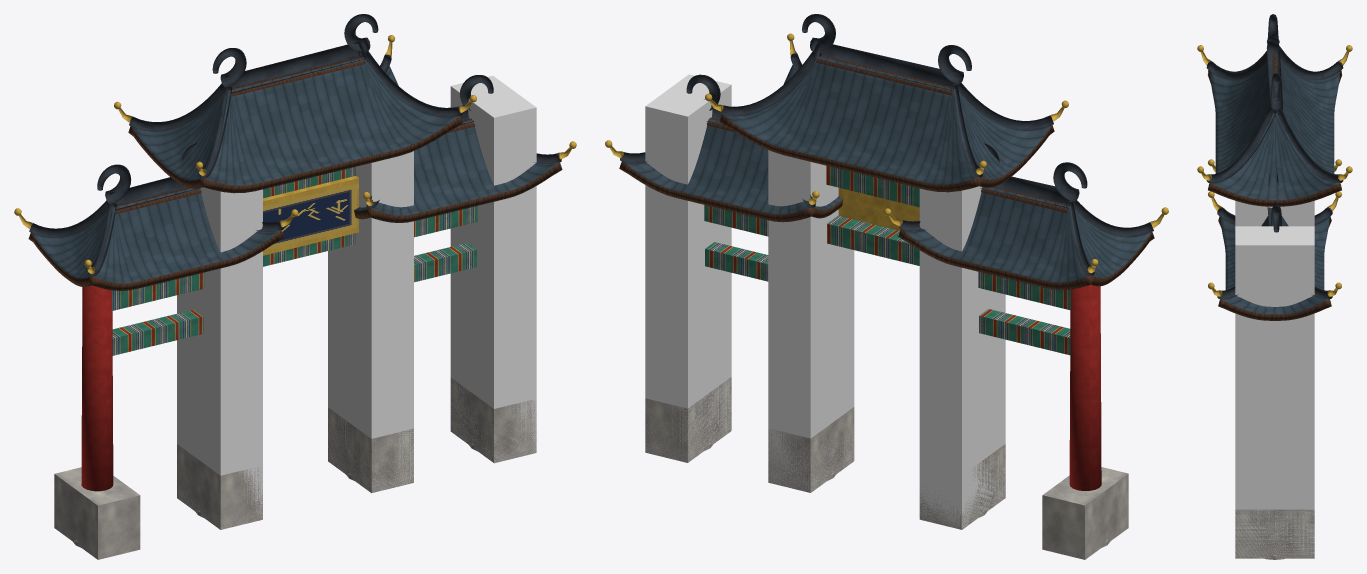
The model's file is sect_gate.glb.
3 renders of one model, left to right at view 1: azimuth 30°, elevation 25°; view 2: azimuth 150°, elevation 25°; view 3: azimuth 270°, elevation 25°, orthographic. The views are drawn at different scales.
Parts seen in each view (by area): view 1: GateRoofMain, GatePillar-convcolonly.003, GatePillar-convcolonly.002, GateBases, GatePillar-convcolonly.001, GateRoofSideR, GateBeams, GateRoofSideL, GateRoofMainRidges, GatePillars, Plaque, GateRoofSideRRidges (+2 smaller); view 2: GateRoofMain, GatePillar-convcolonly.003, GatePillar-convcolonly.001, GatePillar-convcolonly.002, GateBases, GateRoofSideR, GateBeams, GateRoofSideL, GateRoofMainRidges, GatePillars, GateRoofSideRRidges, PlaqueFrame (+1 smaller); view 3: GatePillar-convcolonly.003, GateRoofMain, GateRoofMainRidges, GateBases, GateRoofSideL, GatePillar-convcolonly.002, GateRoofSideLRidges, GateRoofSideLOrnaments, GateRoofMainOrnaments.
Part boxes in pixels (box(x1,y1,x2,y2)): GateRoofMain: box(128, 56, 462, 193); GatePillar-convcolonly.003: box(450, 75, 536, 462); GatePillar-convcolonly.002: box(328, 151, 413, 491); GateBases: box(54, 377, 536, 559); GatePillar-convcolonly.001: box(177, 187, 262, 529); GateRoofSideR: box(28, 188, 283, 290); GateBeams: box(112, 166, 477, 355); GateRoofSideL: box(354, 118, 562, 222); GateRoofMainRidges: box(129, 14, 461, 178); GatePillars: box(81, 285, 113, 491); Plaque: box(263, 184, 356, 250); GateRoofSideRRidges: box(29, 143, 283, 276); GateRoofMain: box(719, 55, 1054, 192); GatePillar-convcolonly.003: box(645, 74, 731, 462); GatePillar-convcolonly.001: box(919, 186, 1005, 529); GatePillar-convcolonly.002: box(768, 150, 854, 492); GateBases: box(645, 377, 1128, 559); GateRoofSideR: box(898, 187, 1154, 290); GateBeams: box(704, 165, 1070, 355); GateRoofSideL: box(619, 117, 843, 222); GateRoofMainRidges: box(720, 14, 1053, 177); GatePillars: box(1069, 284, 1101, 490); GateRoofSideRRidges: box(899, 143, 1153, 275); PlaqueFrame: box(838, 188, 919, 230); GatePillar-convcolonly.003: box(1235, 226, 1314, 558); GateRoofMain: box(1208, 53, 1341, 206); GateRoofMainRidges: box(1206, 14, 1343, 182); GateBases: box(1235, 509, 1314, 559); GateRoofSideL: box(1218, 215, 1331, 320); GatePillar-convcolonly.002: box(1235, 201, 1314, 226); GateRoofSideLRidges: box(1217, 173, 1332, 299); GateRoofSideLOrnaments: box(1208, 191, 1341, 296); GateRoofMainOrnaments: box(1197, 45, 1352, 180).
Size of what is drawn, in the model's own units: 10.41 by 9.32 by 3.15.
8 materials, 8 textured.
